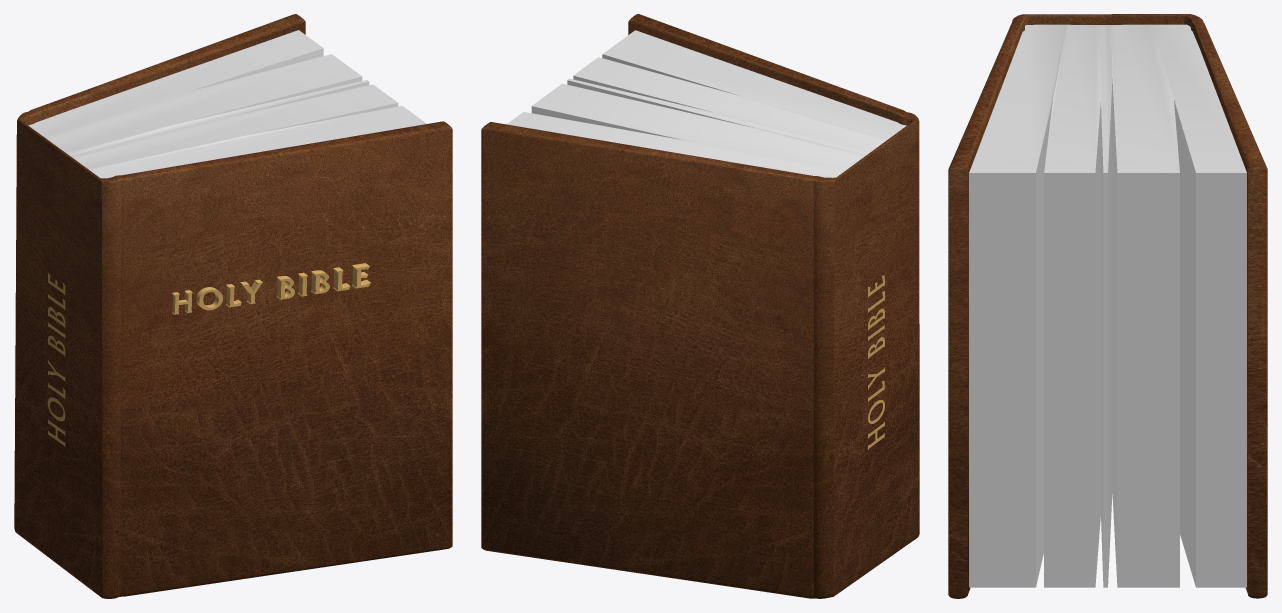
The model's file is bibbia.fbx.
3 renders of one model, left to right at view 1: azimuth 30°, elevation 25°; view 2: azimuth 150°, elevation 25°; view 3: azimuth 270°, elevation 25°, orthographic.
Visible parts, largest first — view 1: Leather Holy Bible Model; view 2: Leather Holy Bible Model; view 3: Leather Holy Bible Model.
Boxes of the visible parts, x1,y1,x2,y2 form: Leather Holy Bible Model: (14, 14, 452, 598); Leather Holy Bible Model: (481, 14, 919, 598); Leather Holy Bible Model: (948, 14, 1267, 598).
Size of the model in its own units: 49.2 by 62.87 by 42.05.
4 materials, 1 textured.
